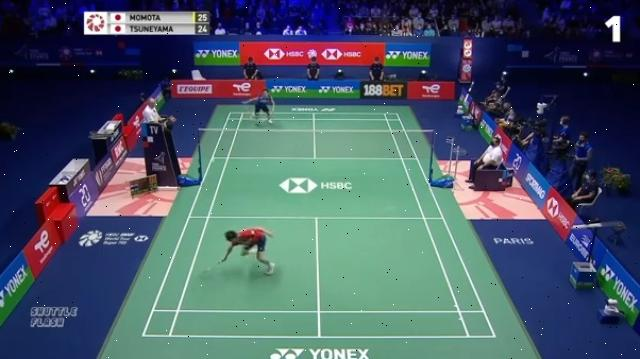Shuttlecock: (208, 156, 218, 164)
